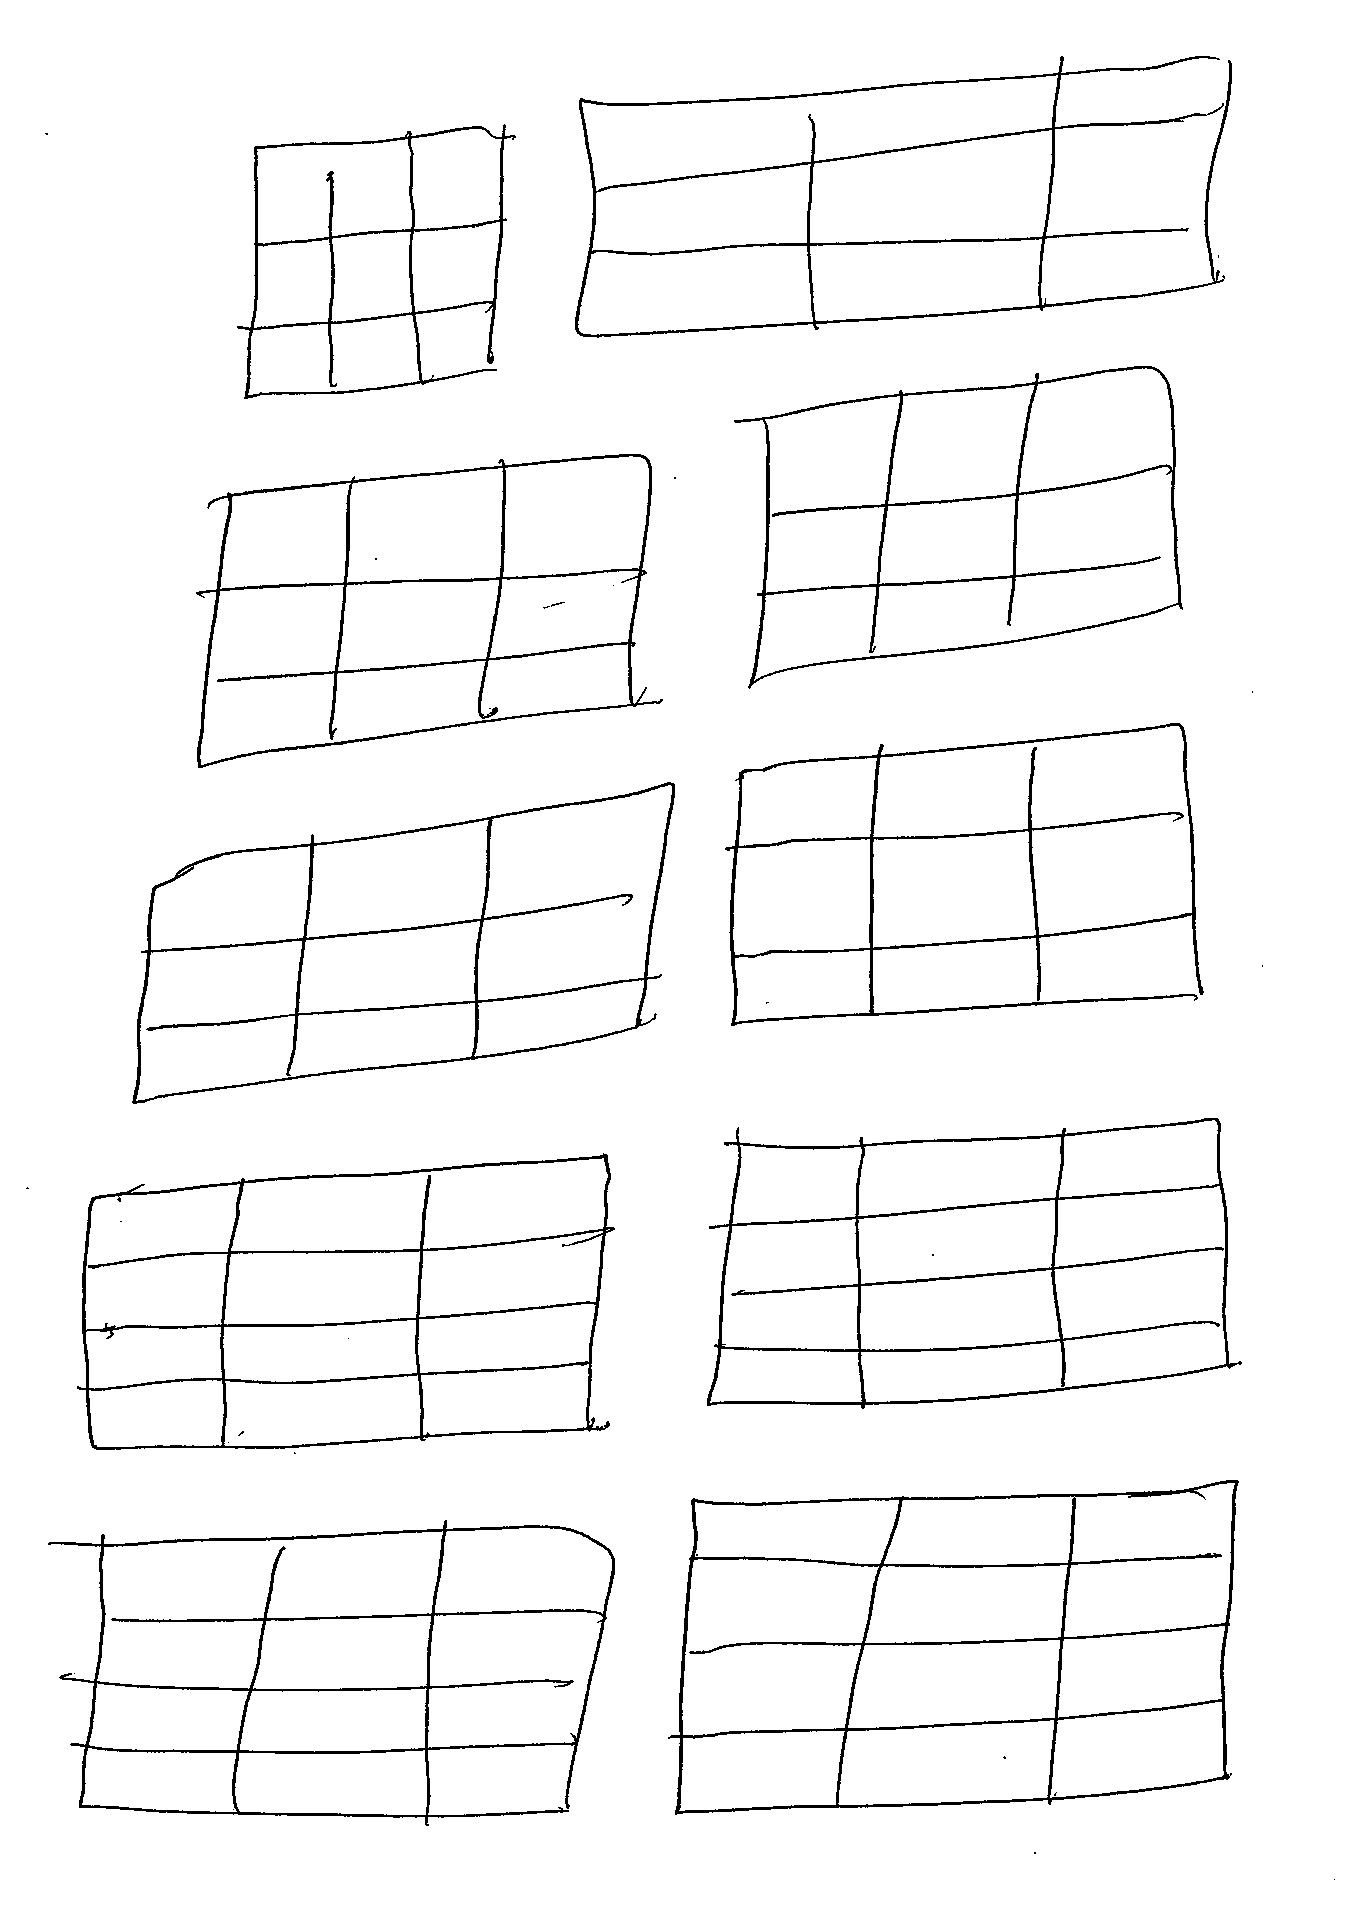Table: (667, 1476, 1239, 1819), (569, 50, 1234, 342), (126, 773, 677, 1106), (75, 1521, 619, 1822), (77, 1152, 616, 1452), (701, 1113, 1231, 1411), (192, 447, 656, 772), (727, 722, 1206, 1026), (747, 364, 1183, 688), (237, 120, 509, 404)
